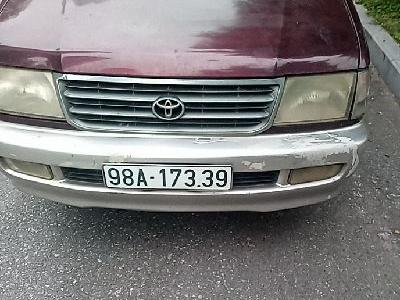car: (101, 162, 234, 192)
